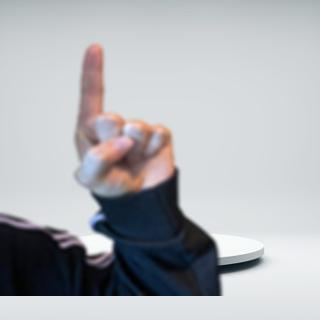IRRITATED: (67, 39, 177, 201)
